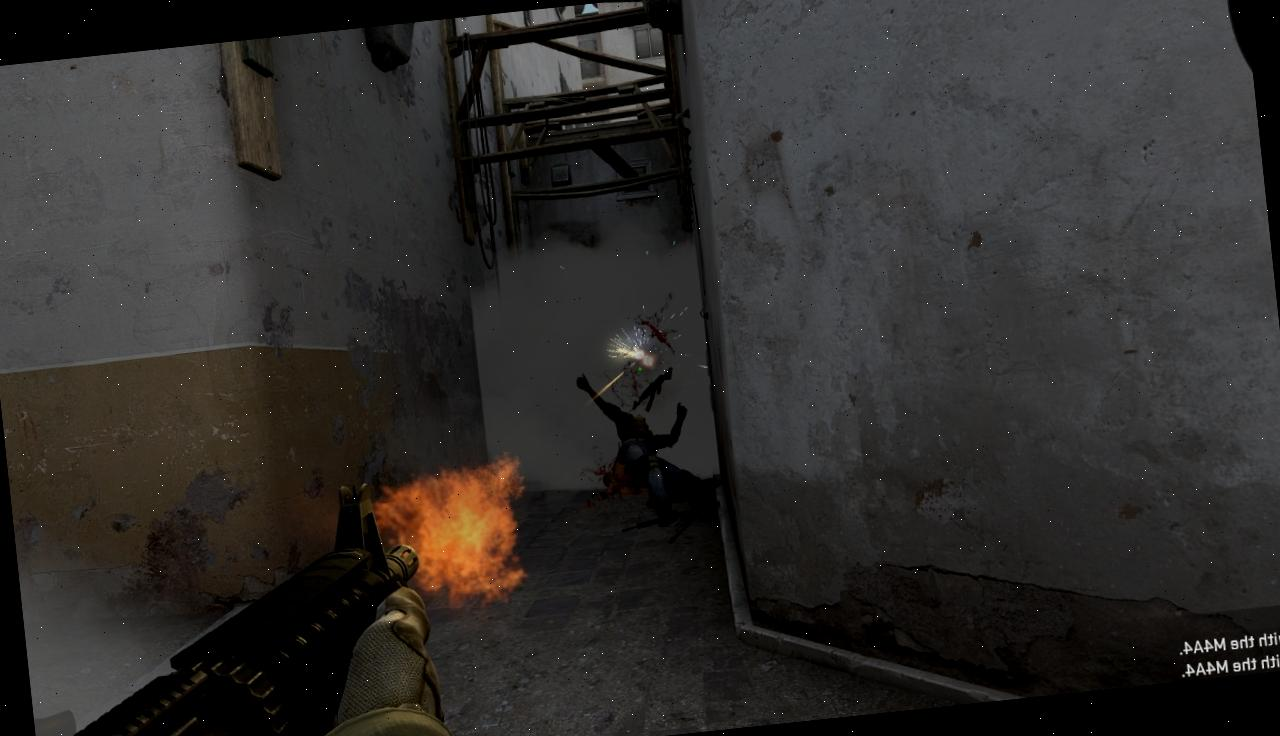rifle: (12, 475, 457, 736)
